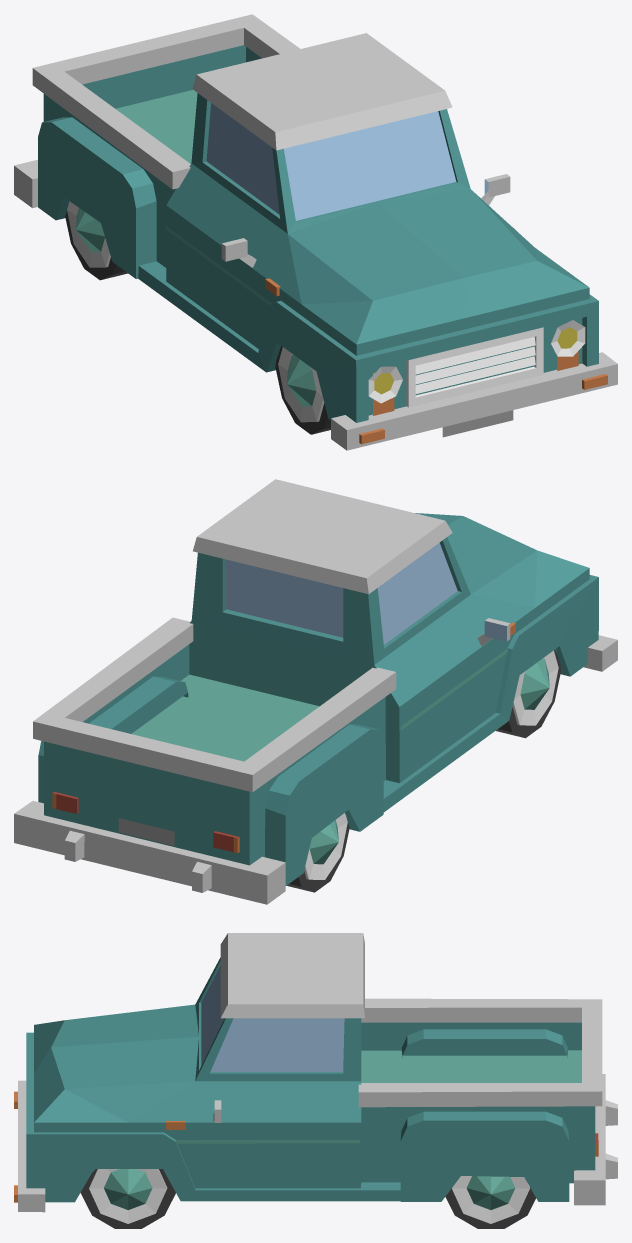
The model's file is transport_cool_007.fbx.
The picture shows the model from 3 angles, top to bottom: view 1: azimuth 30°, elevation 25°; view 2: azimuth 150°, elevation 25°; view 3: azimuth 270°, elevation 25°; orthographic projection. The views are drawn at different scales.
Parts seen in each view (by area): view 1: transport_cool_007; view 2: transport_cool_007; view 3: transport_cool_007.
Part boxes in pixels (left/top/right/bottom): transport_cool_007: left=14, top=14, right=617, bottom=450; transport_cool_007: left=14, top=479, right=617, bottom=904; transport_cool_007: left=14, top=933, right=617, bottom=1228.
Bounding box in the file's own units: 179 × 148 × 381.
